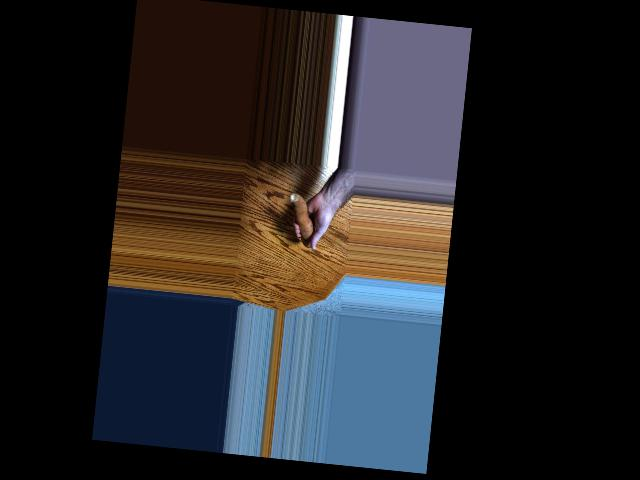sweet_potato: (286, 190, 320, 247)
